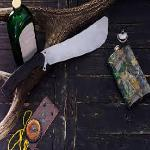Golok: (1, 10, 113, 96)
